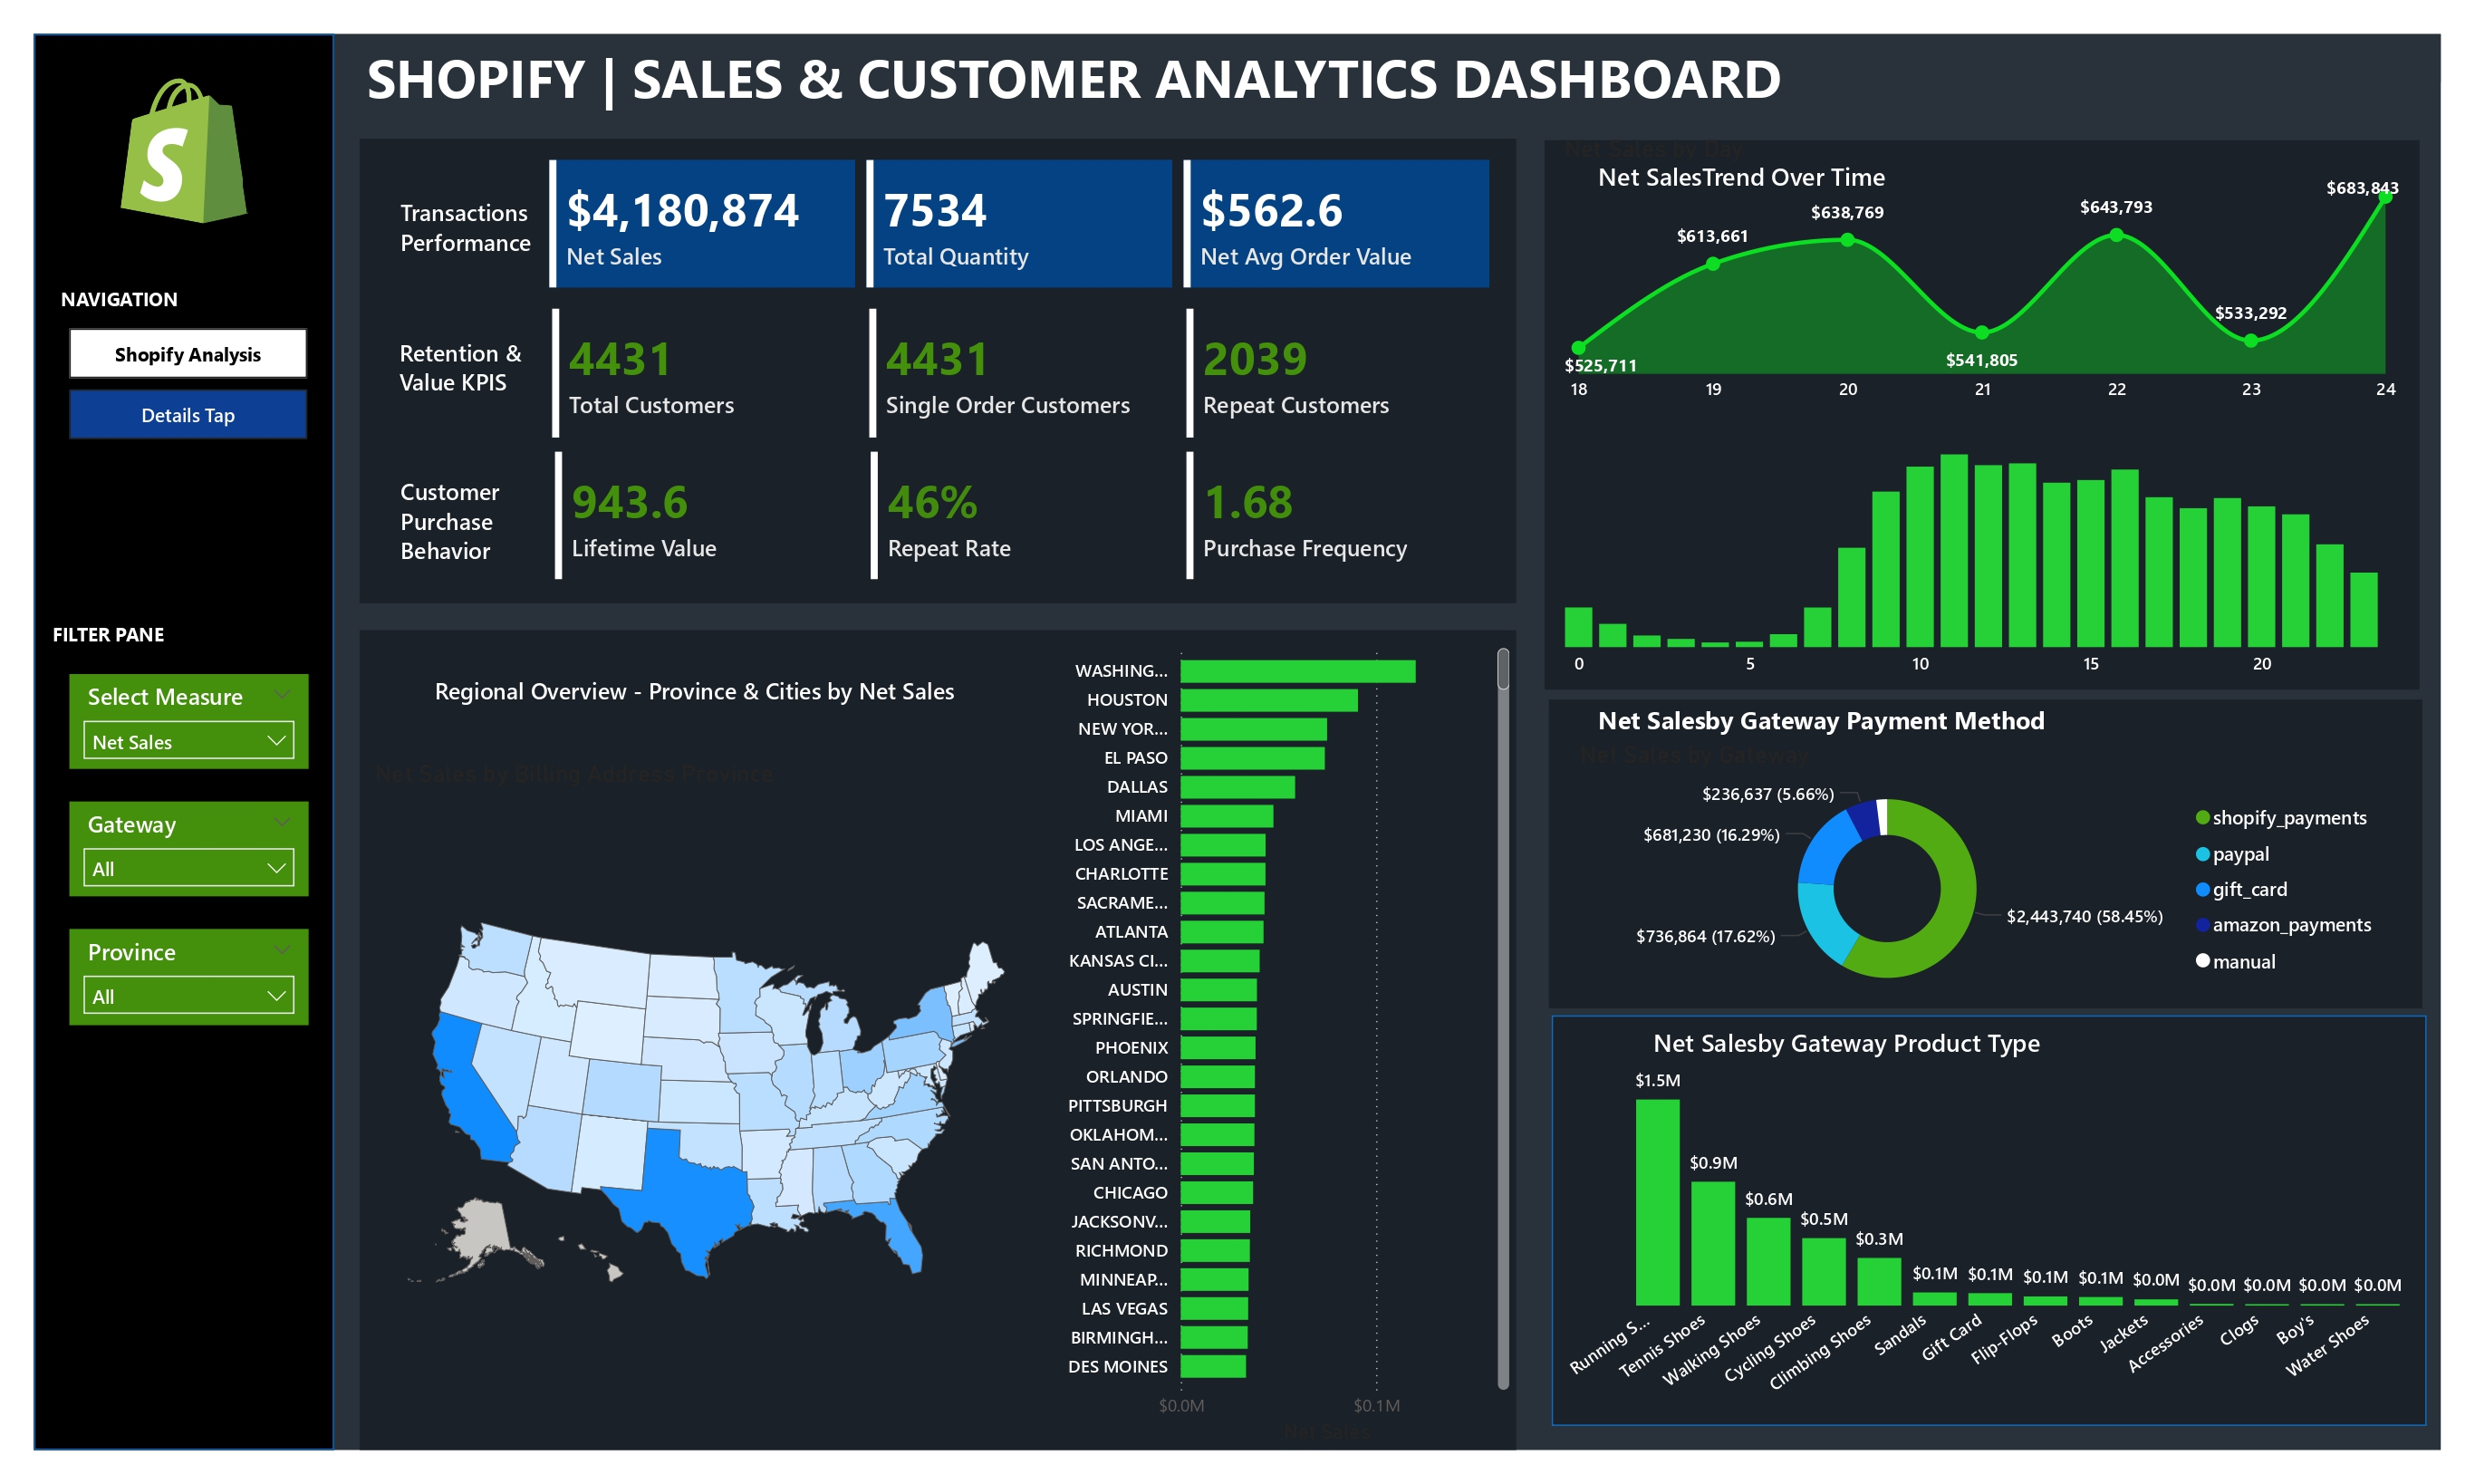

Layout of this report page (visuals, bound fields, positions):
{"tool":"powerbi","page":{"name":"Shopify Analysis","canvas":[1700,1000],"ordinal":0},"visuals":[{"type":"shape","box":[0,0,211.8,1000],"z":0},{"type":"textbox","box":[230,0,1044.3,70],"z":1000},{"type":"shape","box":[230.2,74.4,816.3,327.9],"z":2000},{"type":"cardVisual","fields":{"Data":["shopify_sales.Net Sales","shopify_sales.Total Quantity","shopify_sales.Net Avg Order Value"]},"box":[346.7,71.8,700.3,124.3],"z":3000},{"type":"cardVisual","fields":{"Data":["shopify_sales.Transactions Performance"]},"box":[230.2,74.4,153.5,120.9],"z":4000},{"type":"cardVisual","fields":{"Data":["shopify_sales.Total Customers","shopify_sales.Single Order Customers","shopify_sales.Repeat Customers"]},"box":[348.8,176.7,697.7,125.6],"z":5000},{"type":"cardVisual","fields":{"Data":["shopify_sales.Lifetime Value","shopify_sales.Repeat Rate","shopify_sales.Purchase Frequency"]},"box":[350.8,277.8,696.8,123.8],"z":6000},{"type":"cardVisual","fields":{"Data":["shopify_sales.Retention & Value KPIS"]},"box":[229.3,169.2,169.2,129.7],"z":7000},{"type":"cardVisual","fields":{"Data":["shopify_sales.Customer Purchase Behavior"]},"box":[229.8,268.4,146.4,148.4],"z":8000},{"type":"shape","box":[230.2,420.9,816.3,579.1],"z":9000},{"type":"shapeMap","fields":{"Category":["shopify_sales.Billing Address Province"],"Value":["shopify_sales.Net Sales"]},"box":[235.9,512.4,477.9,465.7],"z":10000},{"type":"slicer","fields":{"Values":["Select Measure.Select Measure"]},"box":[25,452,169,67],"z":11000},{"type":"clusteredBarChart","fields":{"Category":["shopify_sales.CITY"],"Y":["shopify_sales.Net Sales"]},"box":[714,420.9,332.6,579.1],"z":12000},{"type":"cardVisual","fields":{"Data":["shopify_sales.Map Title"]},"box":[254.2,423,441.3,79.3],"z":13000},{"type":"shape","box":[1067.3,75.3,617.6,387.3],"z":14000},{"type":"areaChart","fields":{"Category":["shopify_sales.Invoice Date.Variation.Date Hierarchy.Day"],"Y":["shopify_sales.Net Sales"]},"box":[1075.9,71,600.4,198],"z":15000},{"type":"columnChart","fields":{"Category":["shopify_sales.Hour"],"Y":["shopify_sales.Net Sales"]},"box":[1075.9,269,609,193.7],"z":16000},{"type":"cardVisual","fields":{"Data":["shopify_sales.Trend Title"]},"box":[1075.9,71,344.3,53.8],"z":17000},{"type":"shape","box":[1069.7,469.6,617.7,218.5],"z":18000},{"type":"donutChart","fields":{"Category":["shopify_sales.Gateway"],"Y":["shopify_sales.Net Sales"]},"box":[1086.7,499.2,578.9,189.4],"z":19000},{"type":"cardVisual","fields":{"Data":["shopify_sales.Gateway Title"]},"box":[1075.9,451.9,395.9,60.3],"z":20000},{"type":"shape","box":[1067.2,693.1,617.7,286.3],"z":21000},{"type":"shape","box":[1071.9,693.5,618.2,289.3],"z":22000},{"type":"columnChart","fields":{"Category":["shopify_sales.Product Type"],"Y":["shopify_sales.Net Sales"]},"box":[1075.9,711.3,616.2,267.5],"z":23000},{"type":"cardVisual","fields":{"Data":["shopify_sales.Product Title"]},"box":[1114.7,680.5,394.7,60.2],"z":24000},{"type":"image","box":[61.4,29.7,89.2,105],"z":25000},{"type":"slicer","fields":{"Values":["shopify_sales.Gateway"]},"box":[25,542,169,67],"z":26000},{"type":"slicer","fields":{"Values":["shopify_sales.Billing Address Province"]},"box":[25,632,169,68],"z":27000},{"type":"pageNavigator","box":[25,208,168,79],"z":28000},{"type":"textbox","box":[13.5,172.7,184.6,69.4],"z":28001},{"type":"textbox","box":[8.5,409.8,184.6,33.9],"z":28002}]}

Visuals, with their boxes on the page's 1700x1000 design canvas (x1, y1, x2, y2). These are canvas units, not pixel positions in the 2475x1484 screenshot, which may show the page scaled, cropped or inside an application window:
shape: (x1=0, y1=0, x2=212, y2=1000)
textbox: (x1=230, y1=0, x2=1274, y2=70)
shape: (x1=230, y1=74, x2=1046, y2=402)
cardVisual - shopify_sales.Net Sales x shopify_sales.Total Quantity: (x1=347, y1=72, x2=1047, y2=196)
cardVisual - shopify_sales.Transactions Performance: (x1=230, y1=74, x2=384, y2=195)
cardVisual - shopify_sales.Total Customers x shopify_sales.Single Order Customers: (x1=349, y1=177, x2=1046, y2=302)
cardVisual - shopify_sales.Lifetime Value x shopify_sales.Repeat Rate: (x1=351, y1=278, x2=1048, y2=402)
cardVisual - shopify_sales.Retention & Value KPIS: (x1=229, y1=169, x2=398, y2=299)
cardVisual - shopify_sales.Customer Purchase Behavior: (x1=230, y1=268, x2=376, y2=417)
shape: (x1=230, y1=421, x2=1046, y2=1000)
shapeMap - shopify_sales.Billing Address Province x shopify_sales.Net Sales: (x1=236, y1=512, x2=714, y2=978)
slicer - Select Measure.Select Measure: (x1=25, y1=452, x2=194, y2=519)
clusteredBarChart - shopify_sales.CITY x shopify_sales.Net Sales: (x1=714, y1=421, x2=1047, y2=1000)
cardVisual - shopify_sales.Map Title: (x1=254, y1=423, x2=696, y2=502)
shape: (x1=1067, y1=75, x2=1685, y2=463)
areaChart - shopify_sales.Invoice Date.Variation.Date Hierarchy.Day x shopify_sales.Net Sales: (x1=1076, y1=71, x2=1676, y2=269)
columnChart - shopify_sales.Hour x shopify_sales.Net Sales: (x1=1076, y1=269, x2=1685, y2=463)
cardVisual - shopify_sales.Trend Title: (x1=1076, y1=71, x2=1420, y2=125)
shape: (x1=1070, y1=470, x2=1687, y2=688)
donutChart - shopify_sales.Gateway x shopify_sales.Net Sales: (x1=1087, y1=499, x2=1666, y2=689)
cardVisual - shopify_sales.Gateway Title: (x1=1076, y1=452, x2=1472, y2=512)
shape: (x1=1067, y1=693, x2=1685, y2=979)
shape: (x1=1072, y1=694, x2=1690, y2=983)
columnChart - shopify_sales.Product Type x shopify_sales.Net Sales: (x1=1076, y1=711, x2=1692, y2=979)
cardVisual - shopify_sales.Product Title: (x1=1115, y1=680, x2=1509, y2=741)
image: (x1=61, y1=30, x2=151, y2=135)
slicer - shopify_sales.Gateway: (x1=25, y1=542, x2=194, y2=609)
slicer - shopify_sales.Billing Address Province: (x1=25, y1=632, x2=194, y2=700)
pageNavigator: (x1=25, y1=208, x2=193, y2=287)
textbox: (x1=14, y1=173, x2=198, y2=242)
textbox: (x1=8, y1=410, x2=193, y2=444)
